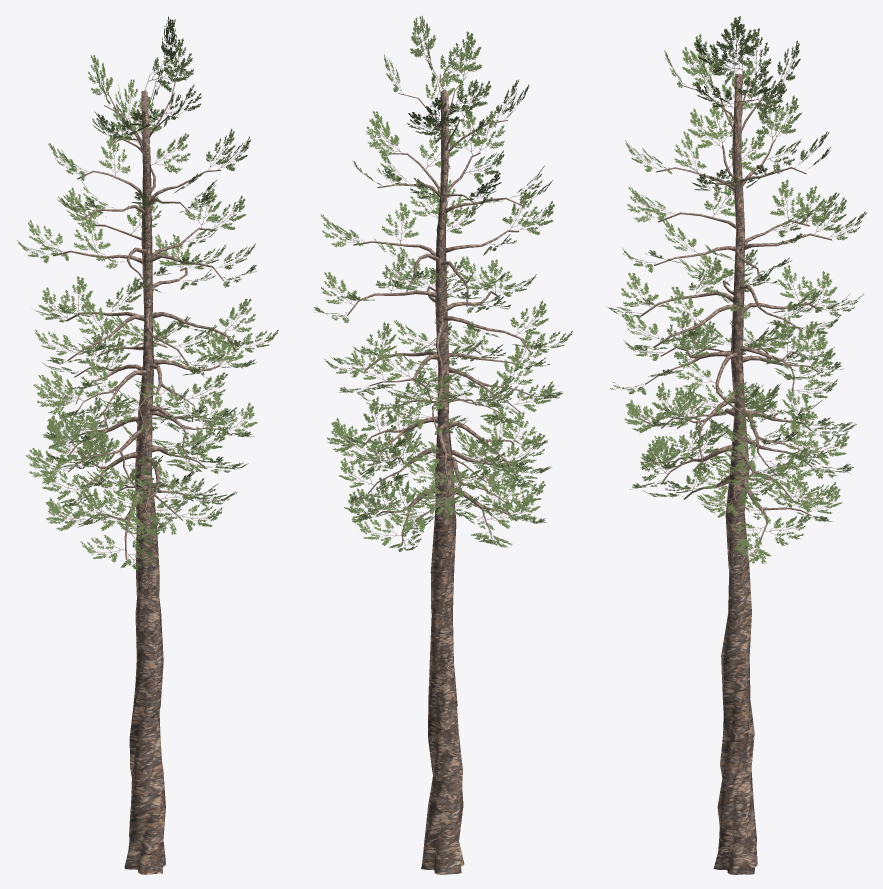
The model's file is Tree_1.fbx.
The picture shows the model from 3 angles, left to right: view 1: azimuth 30°, elevation 25°; view 2: azimuth 150°, elevation 25°; view 3: azimuth 270°, elevation 25°; orthographic projection. The views are drawn at different scales.
Visible parts, largest first — view 1: Tree_LOD0; view 2: Tree_LOD0; view 3: Tree_LOD0.
Part boxes in pixels (x1=…): Tree_LOD0: x1=17, y1=16, x2=278, y2=874; Tree_LOD0: x1=314, y1=16, x2=572, y2=874; Tree_LOD0: x1=606, y1=16, x2=866, y2=874.
Size of what is drawn, in the model's own units: 2.73 by 9.84 by 2.74.
